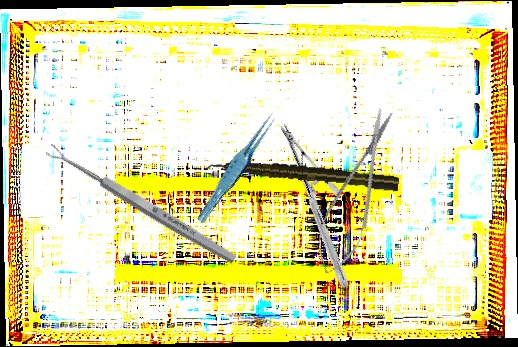Handpiece: (206, 155, 400, 193)
Micro Scissor: (306, 103, 407, 281)
Needle Holder: (226, 122, 403, 290)
Surgical Spoon: (45, 141, 238, 267)
Tissue Forceps: (188, 110, 287, 225)
